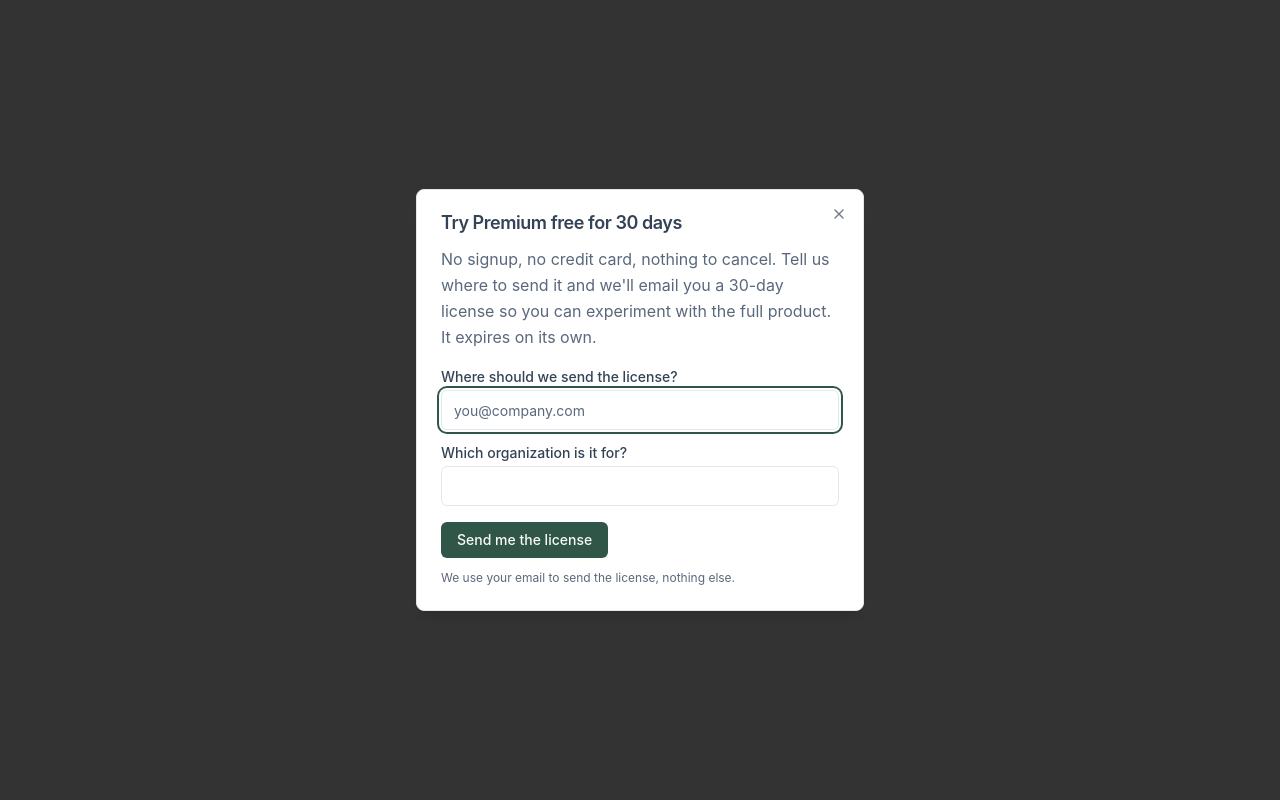
Test: the trial request dialog › requires the organization, matching the survey's trial opt-in
The image size is (1280, 800).
In the field labelled "Where should we send the license?": (640, 410) [441,390,839,430], type "po@company.com"
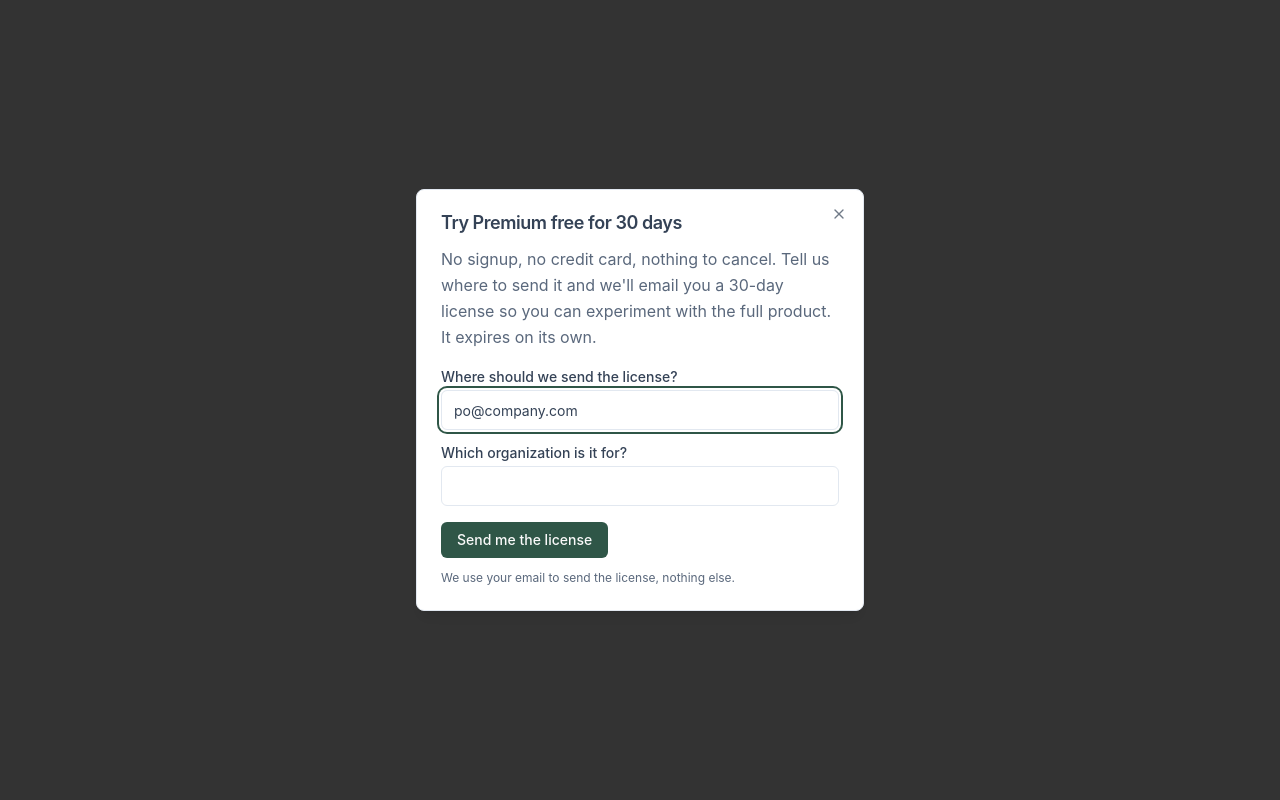
Click the button "Send me the license": (525, 540) [441,522,608,558]
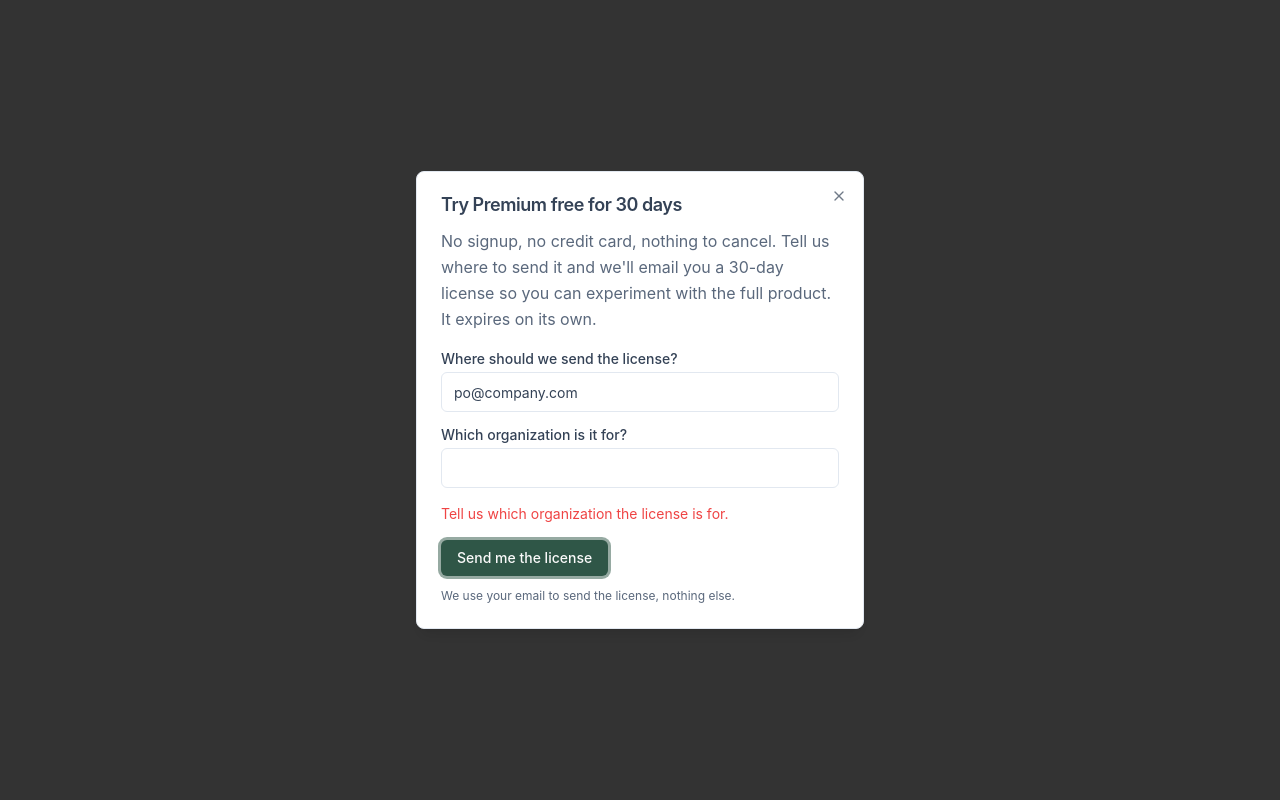
Result: the message shows "which organization" at [441,505,728,522]
